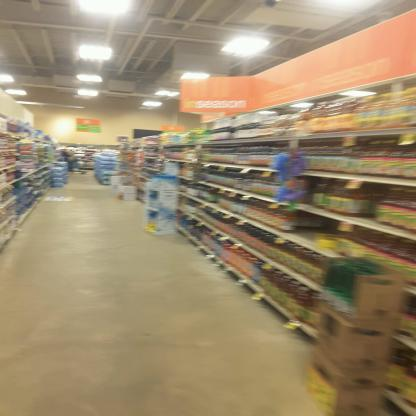Void: (302, 214, 317, 240)
